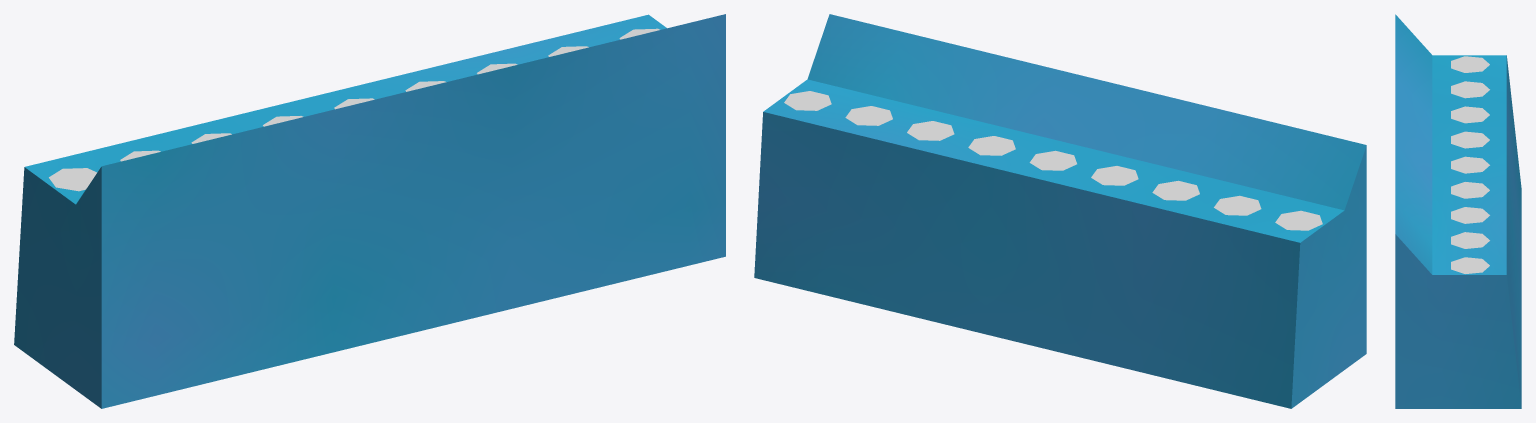
File: dialing console.fbx
The picture shows the model from 3 angles, left to right: view 1: azimuth 30°, elevation 25°; view 2: azimuth 150°, elevation 25°; view 3: azimuth 270°, elevation 25°; orthographic projection. The views are drawn at different scales.
Parts seen in each view (by area): view 1: removable, shadow stuff_10, shadow stuff; view 2: shadow stuff_10, shadow stuff; view 3: shadow stuff_10, shadow stuff.
Boxes of the visible parts, x1,y1,x2,y2 form: removable: (119, 74, 707, 396); shadow stuff_10: (14, 14, 725, 408); shadow stuff: (49, 28, 659, 191); shadow stuff_10: (754, 14, 1366, 408); shadow stuff: (784, 91, 1322, 230); shadow stuff_10: (1395, 14, 1521, 408); shadow stuff: (1451, 56, 1489, 273).
Size of the model in its own units: 350 by 130 by 85.
2 materials, 2 textured.
